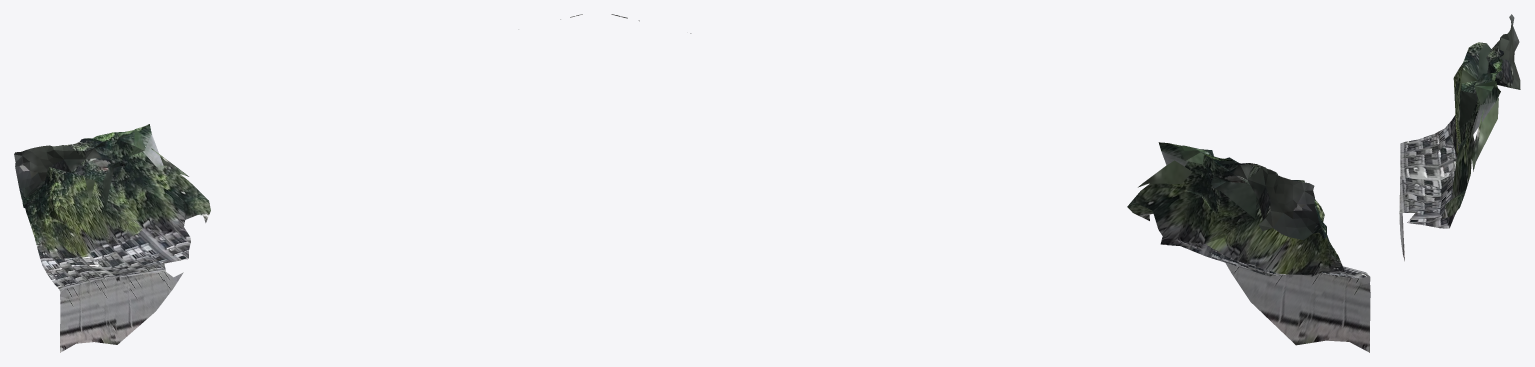
Rendered from Tile_+003_+000.obj.
3 views of the same model, side by side, from view 1: azimuth 30°, elevation 25°; view 2: azimuth 150°, elevation 25°; view 3: azimuth 270°, elevation 25° (orthographic). The views are drawn at different scales.
Size of the model in its own units: 141 by 41.63 by 21.35.
Materials: 1 (1 with a texture image).
